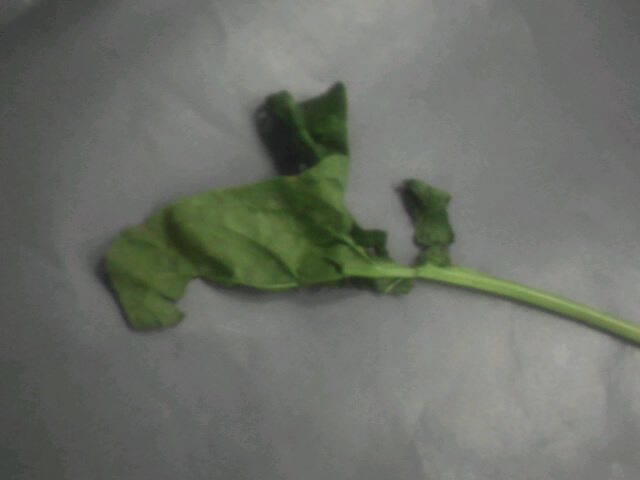yellow: (77, 73, 461, 350)
